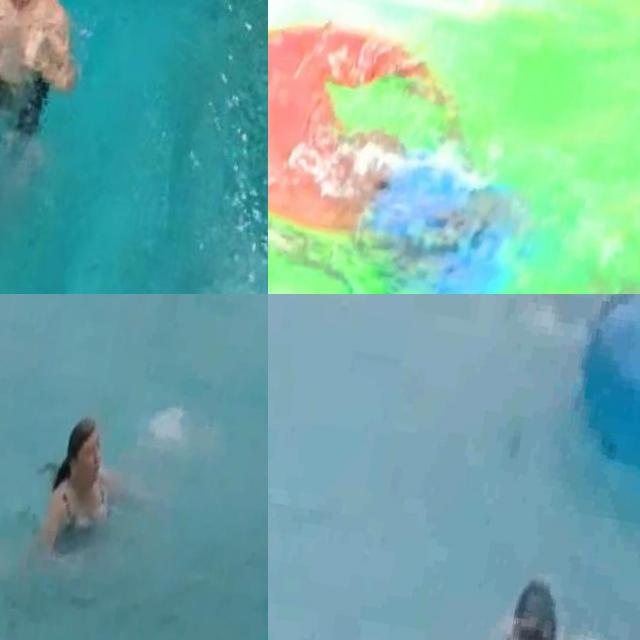drowning: (0, 374, 172, 618)
swimming: (268, 0, 620, 294), (0, 0, 123, 153), (450, 567, 616, 640)
